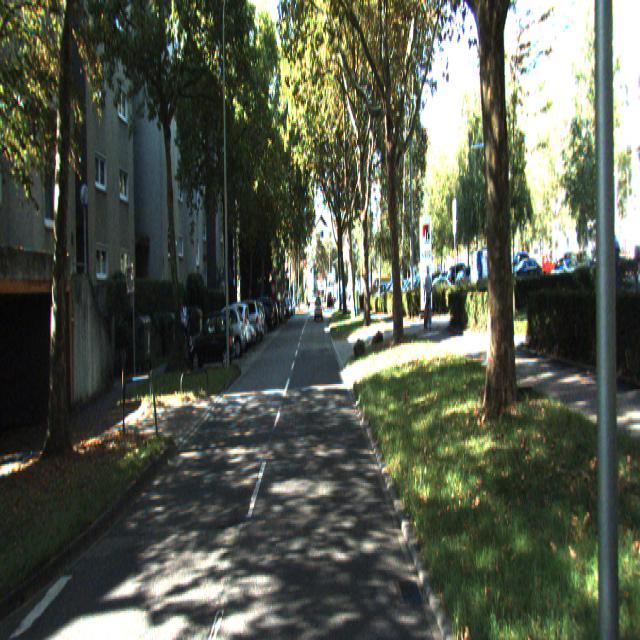Car: (189, 312, 236, 374), (207, 306, 246, 363)
